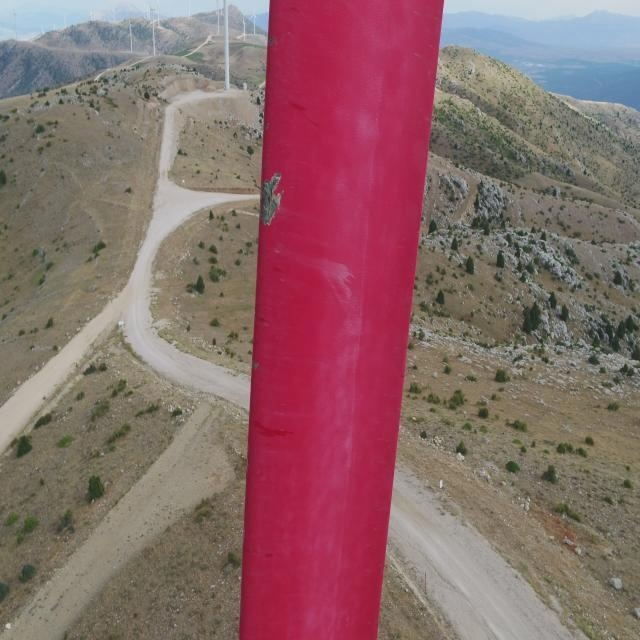EROSION: (253, 172, 288, 233)
